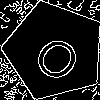O: (29, 25, 91, 86)
